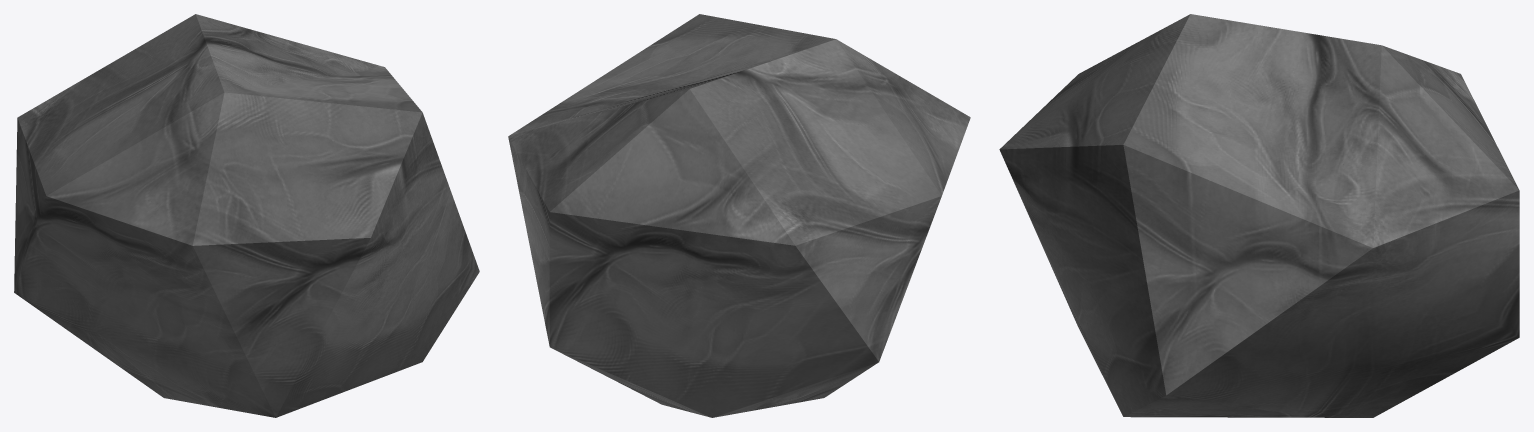
File: piedra.obj
3 views of the same model, side by side, from view 1: azimuth 30°, elevation 25°; view 2: azimuth 150°, elevation 25°; view 3: azimuth 270°, elevation 25° (orthographic). The views are drawn at different scales.
Visible parts, largest first — view 1: piedra_para_texturizar:Sphere002; view 2: piedra_para_texturizar:Sphere002; view 3: piedra_para_texturizar:Sphere002.
Part boxes in pixels (x1,y1,x2,y2): piedra_para_texturizar:Sphere002: (14, 14, 479, 417); piedra_para_texturizar:Sphere002: (508, 14, 970, 417); piedra_para_texturizar:Sphere002: (999, 14, 1519, 417).
Size of the model in its own units: 0.4287 by 0.3461 by 0.4585.
Materials: 1 (1 with a texture image).
